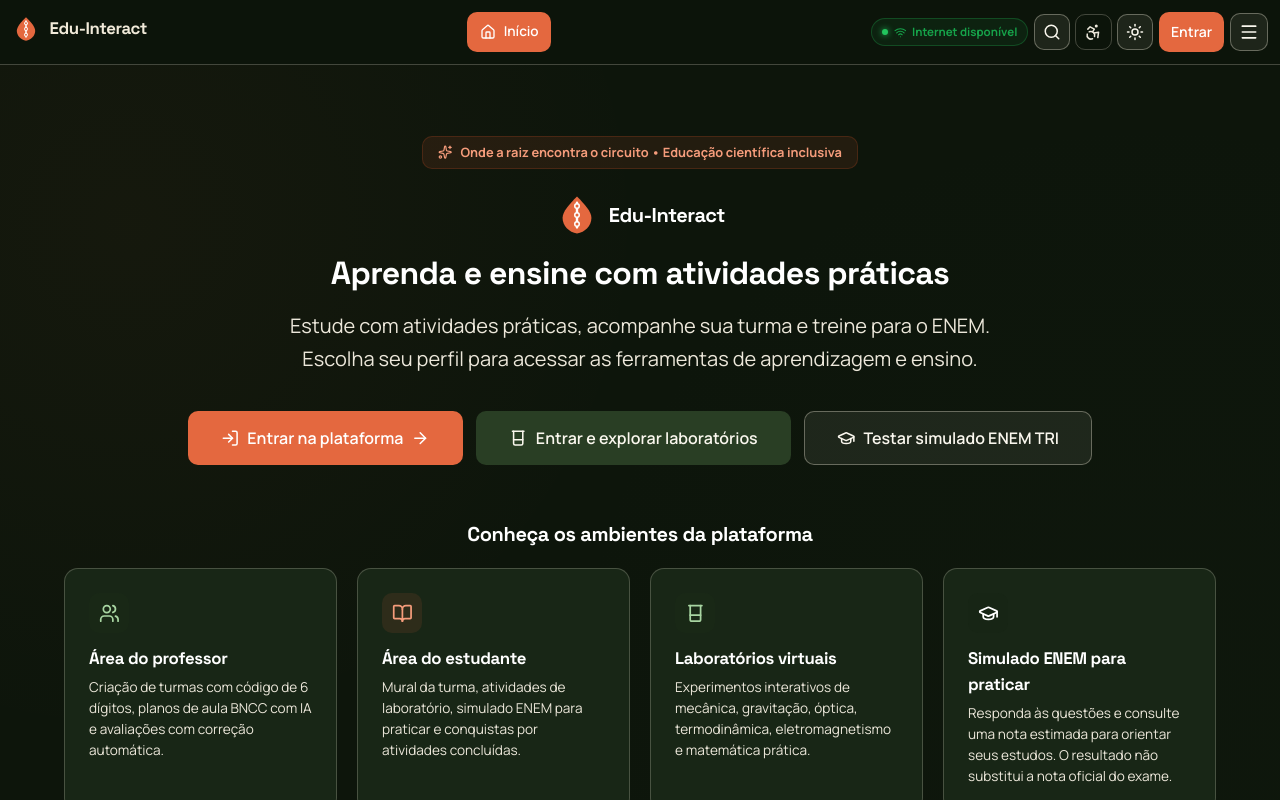
Test: login continuity › takes a general login to the actual profile panel
This screenshot has width=1280, height=800.
Step 1. Click the button "Entrar" → (1192, 32), box [1159,12,1224,52]
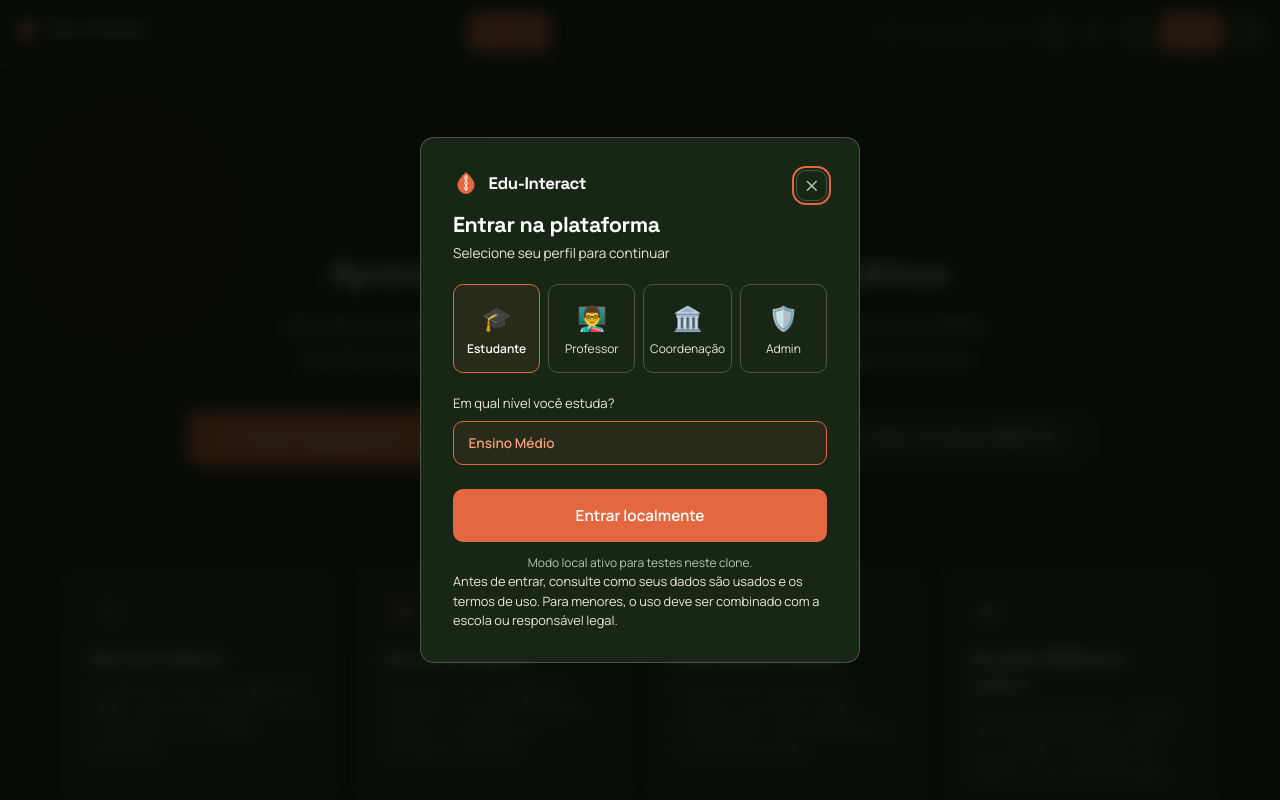
Step 2. Click the button "👨‍🏫 professor" → (592, 328), box [548,284,635,373]
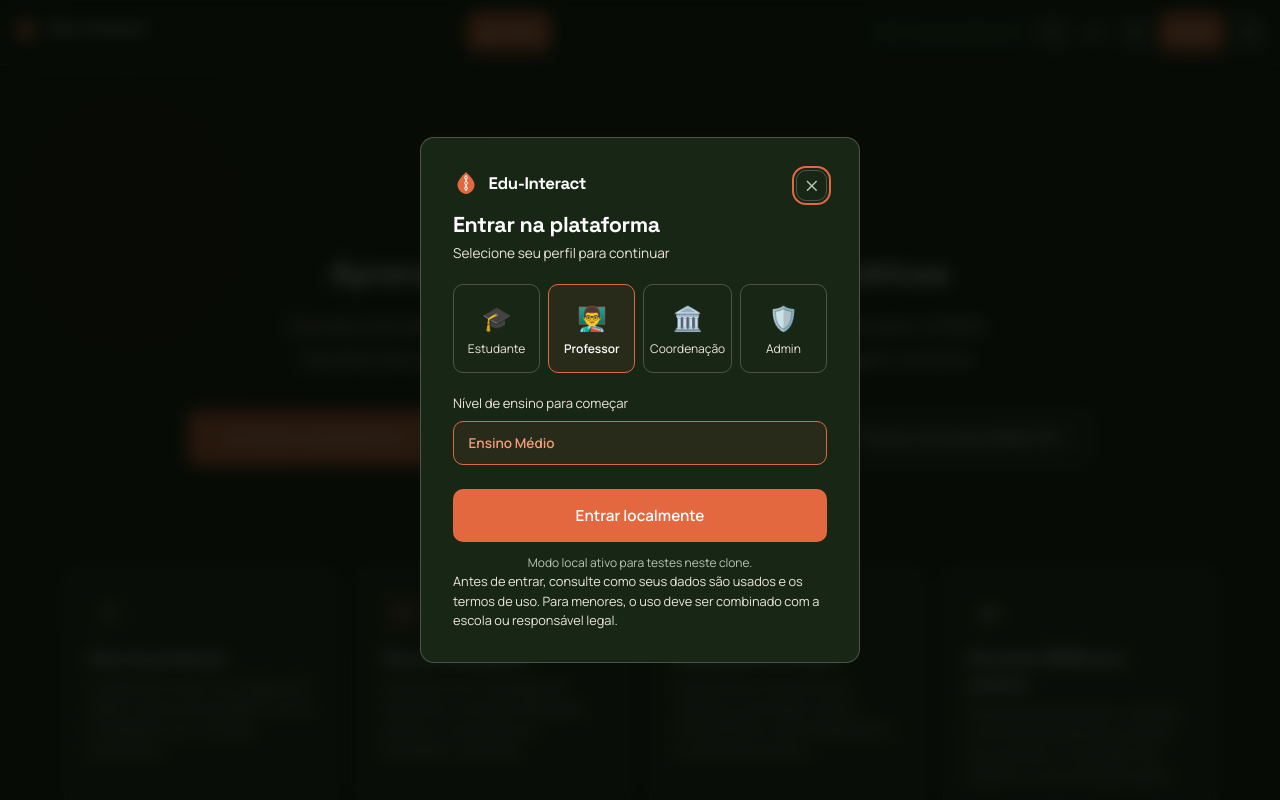
Step 3. Click the button "Entrar localmente" → (640, 516), box [453,489,827,542]
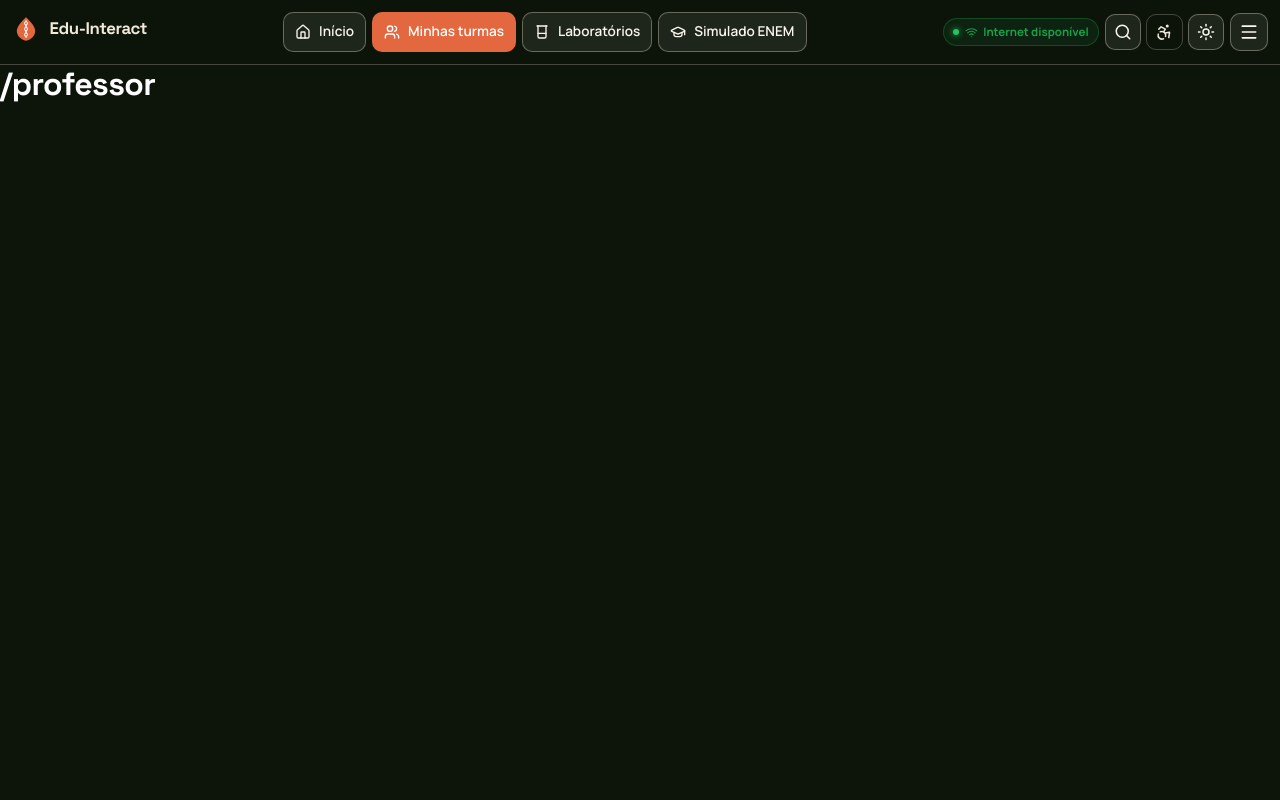
Expected: the heading "/professor" is shown, [0,64,155,104]
